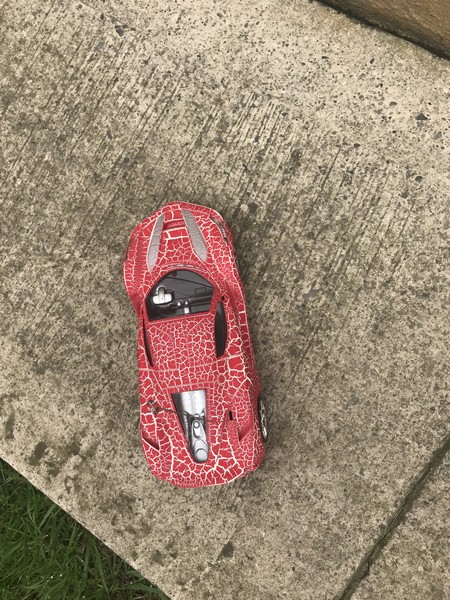RC: (119, 200, 270, 491)
